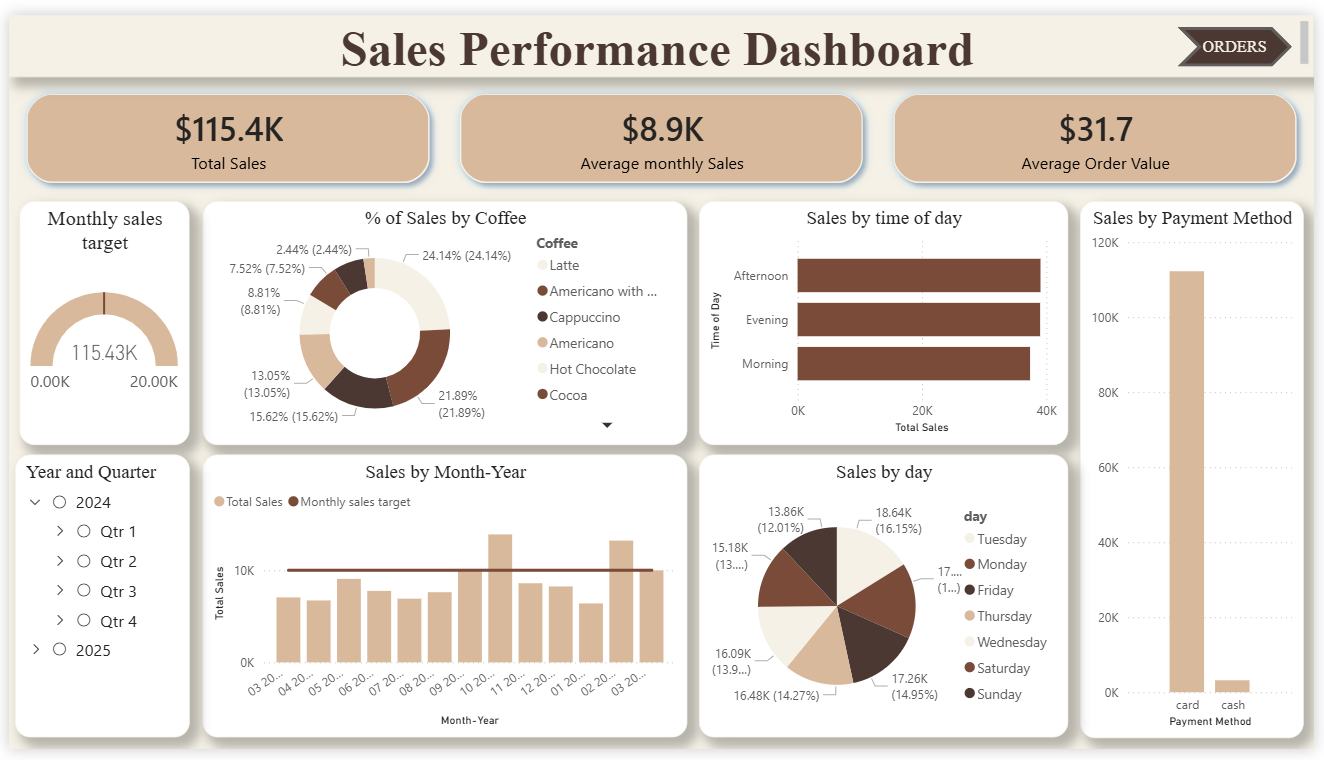

The dashboard page shown, as its layout file describes it:
{"tool":"powerbi","page":{"name":"Sales","canvas":[1280,720],"ordinal":0},"visuals":[{"type":"cardVisual","fields":{"Data":["coffee_sales_clean.Total Sales","coffee_sales_clean.Average monthly Sales","coffee_sales_clean.Average Order Value"]},"box":[0,60.6,1279.5,121.1],"z":0},{"type":"donutChart","title":"% of Sales by Coffee","fields":{"Y":["coffee_sales_clean.% of Total Sales"],"Category":["coffee_sales_clean.coffee_name"]},"box":[189.3,181.7,475.5,239.2],"z":1000},{"type":"barChart","title":"Sales by time of day","fields":{"Y":["coffee_sales_clean.Total Sales"],"Category":["coffee_sales_clean.time_of_day"]},"box":[676.8,181.7,361.9,239.2],"z":2000},{"type":"columnChart","title":"Sales by Payment Method","fields":{"Category":["coffee_sales_clean.payment_method"],"Y":["Sum(coffee_sales_clean.amount)"]},"box":[1049.3,181.7,219.6,526.9],"z":3000},{"type":"lineStackedColumnComboChart","title":"Sales by Month-Year","fields":{"Y":["coffee_sales_clean.Total Sales"],"Y2":["coffee_sales_clean.Monthly sales target"],"Category":["coffee_sales_clean.Month-Year"]},"box":[189.3,431.5,475.5,277.1],"z":4000},{"type":"pieChart","title":"Sales by day","fields":{"Category":["coffee_sales_clean.day"],"Y":["coffee_sales_clean.Total Sales"]},"box":[676.8,431.5,361.9,277.1],"z":5000},{"type":"gauge","title":"Monthly sales target","fields":{"Y":["Sum(coffee_sales_clean.amount)"],"TargetValue":["coffee_sales_clean.Monthly sales target"]},"box":[10.6,181.7,166.6,239.2],"z":6000},{"type":"textbox","title":"Sales Performance Dashboard","box":[0,0,1279.5,60.6],"z":7000},{"type":"listSlicer","fields":{"Values":["coffee_sales_clean.date.Variation.Date Hierarchy.Year","coffee_sales_clean.date.Variation.Date Hierarchy.Quarter","coffee_sales_clean.date.Variation.Date Hierarchy.Month","coffee_sales_clean.date.Variation.Date Hierarchy.Day"]},"box":[6.1,431.5,171.1,277.1],"z":8000},{"type":"actionButton","box":[1146.2,11.5,112.2,38.8],"z":9000}]}

Visuals, with their boxes in screenshot pixels (x1, y1, x2, y2), scaled from the page's 1280x720 canvas onto the 1324x760 screenshot:
cardVisual - coffee_sales_clean.Total Sales x coffee_sales_clean.Average monthly Sales: (left=0, top=64, right=1323, bottom=192)
"% of Sales by Coffee" donutChart: (left=196, top=192, right=688, bottom=444)
"Sales by time of day" barChart: (left=700, top=192, right=1074, bottom=444)
"Sales by Payment Method" columnChart: (left=1085, top=192, right=1313, bottom=748)
"Sales by Month-Year" lineStackedColumnComboChart: (left=196, top=455, right=688, bottom=748)
"Sales by day" pieChart: (left=700, top=455, right=1074, bottom=748)
"Monthly sales target" gauge: (left=11, top=192, right=183, bottom=444)
"Sales Performance Dashboard" textbox: (left=0, top=0, right=1323, bottom=64)
listSlicer - coffee_sales_clean.date.Variation.Date Hierarchy.Year x coffee_sales_clean.date.Variation.Date Hierarchy.Quarter: (left=6, top=455, right=183, bottom=748)
actionButton: (left=1186, top=12, right=1302, bottom=53)
